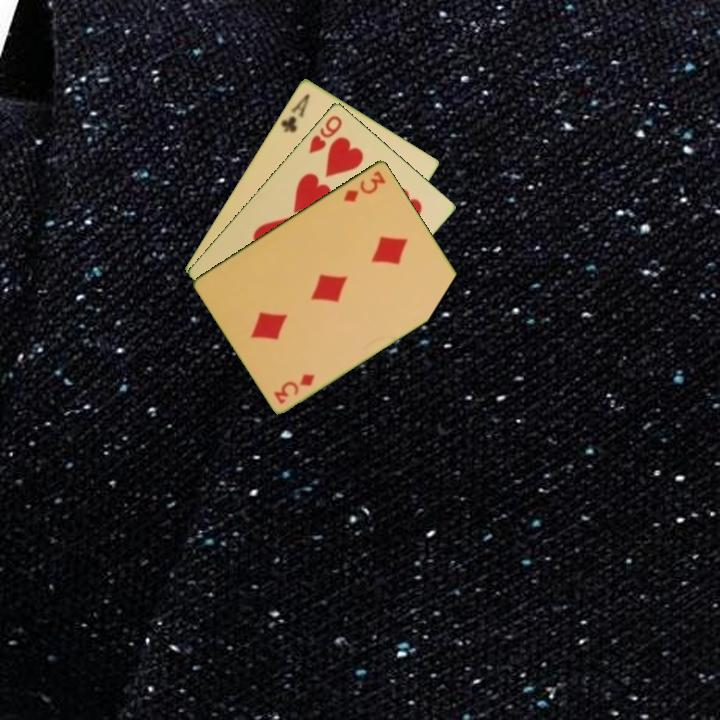3d: (340, 167, 389, 205), (270, 370, 318, 406)
9h: (305, 111, 345, 156)
Ac: (277, 89, 313, 135)
